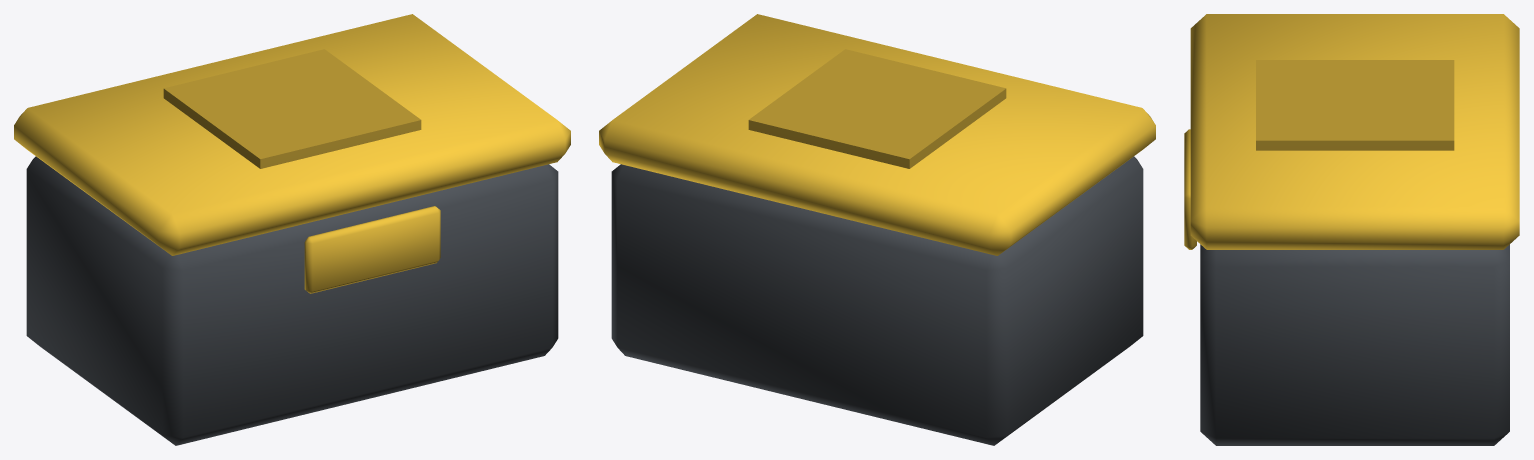
Rendered from SM_Tote_Lidded_01.glb.
3 renders of one model, left to right at view 1: azimuth 30°, elevation 25°; view 2: azimuth 150°, elevation 25°; view 3: azimuth 270°, elevation 25°, orthographic. The views are drawn at different scales.
Visible parts, largest first — view 1: SM_Tote_Lidded_01; view 2: SM_Tote_Lidded_01; view 3: SM_Tote_Lidded_01.
Boxes of the visible parts, left/top/right/bottom form: SM_Tote_Lidded_01: left=14, top=14, right=570, bottom=445; SM_Tote_Lidded_01: left=599, top=14, right=1155, bottom=445; SM_Tote_Lidded_01: left=1184, top=14, right=1519, bottom=445.
Size of the model in its own units: 0.614 by 0.352 by 0.422.
1 material, 1 textured.
